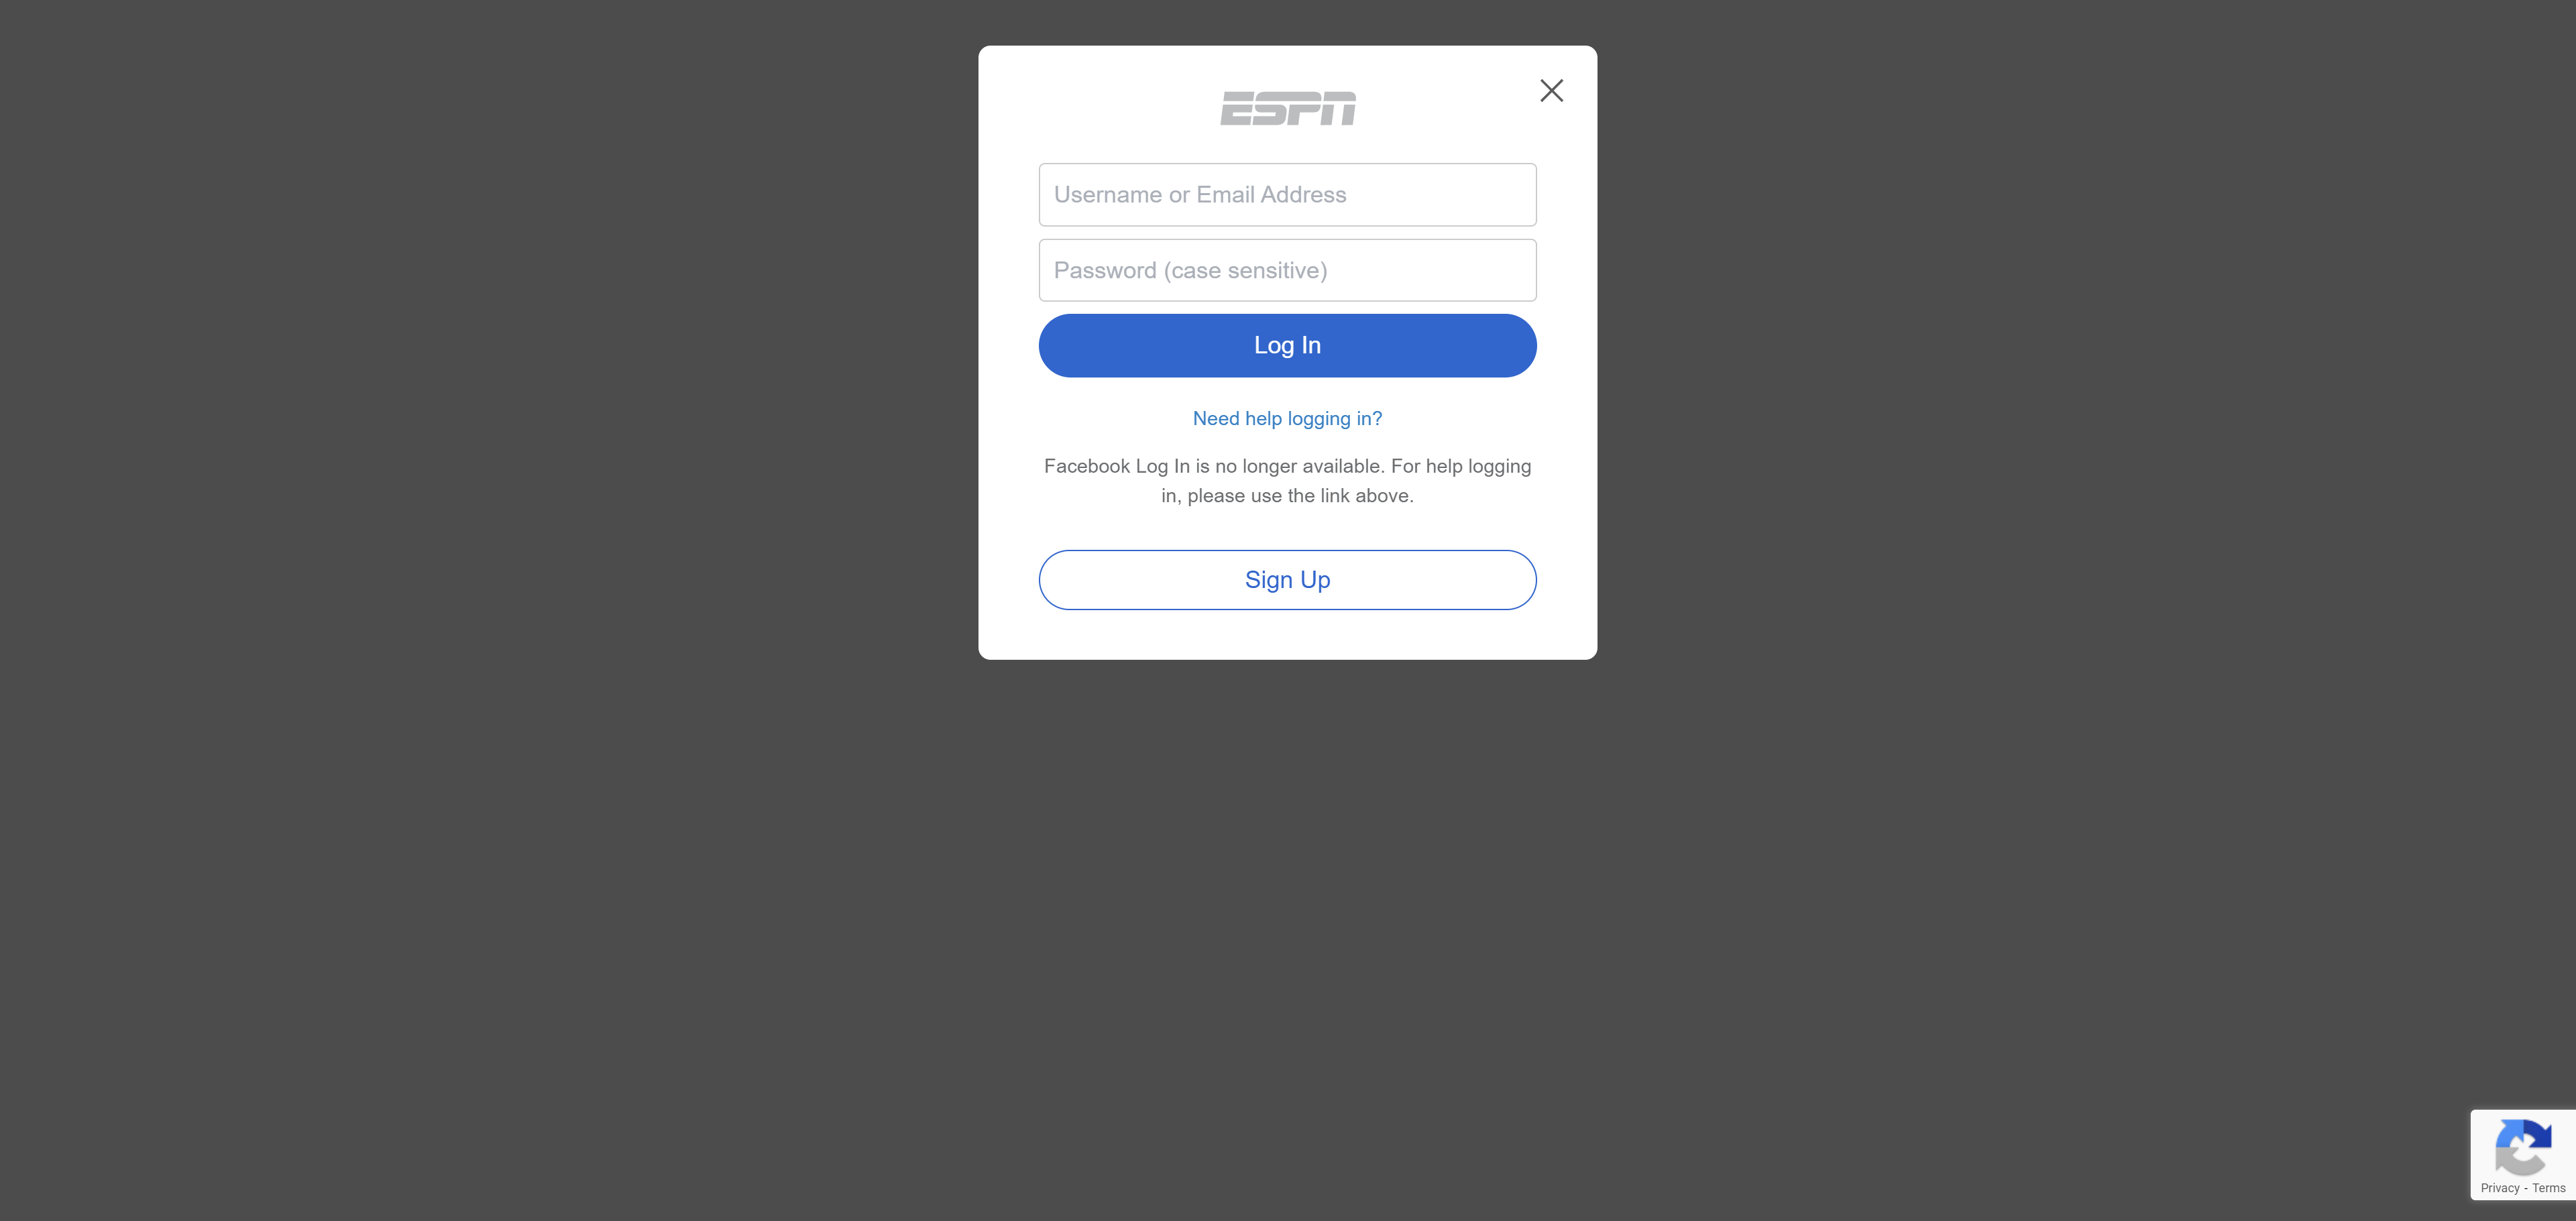login_button: (1038, 314, 1536, 378)
login_form: (1030, 154, 1548, 389)
